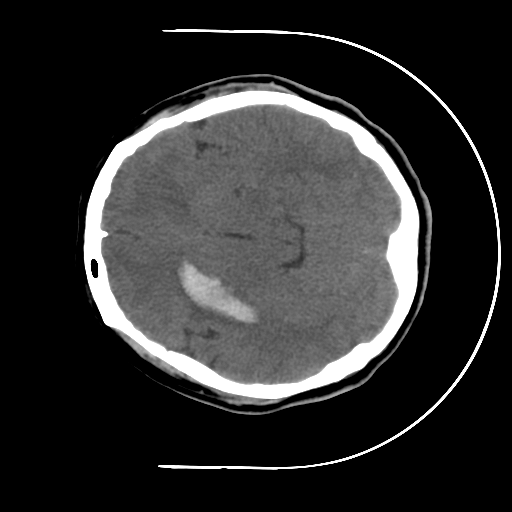a: (158, 236, 274, 345)
